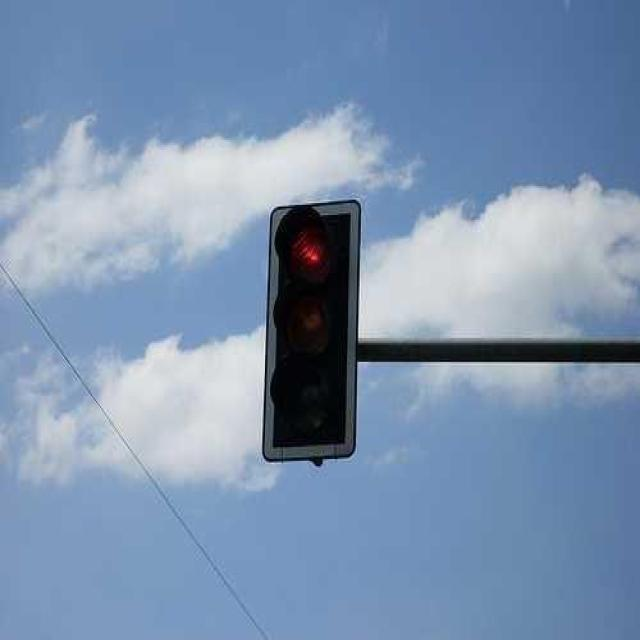Traffic Light -Red-: (262, 196, 354, 456)
